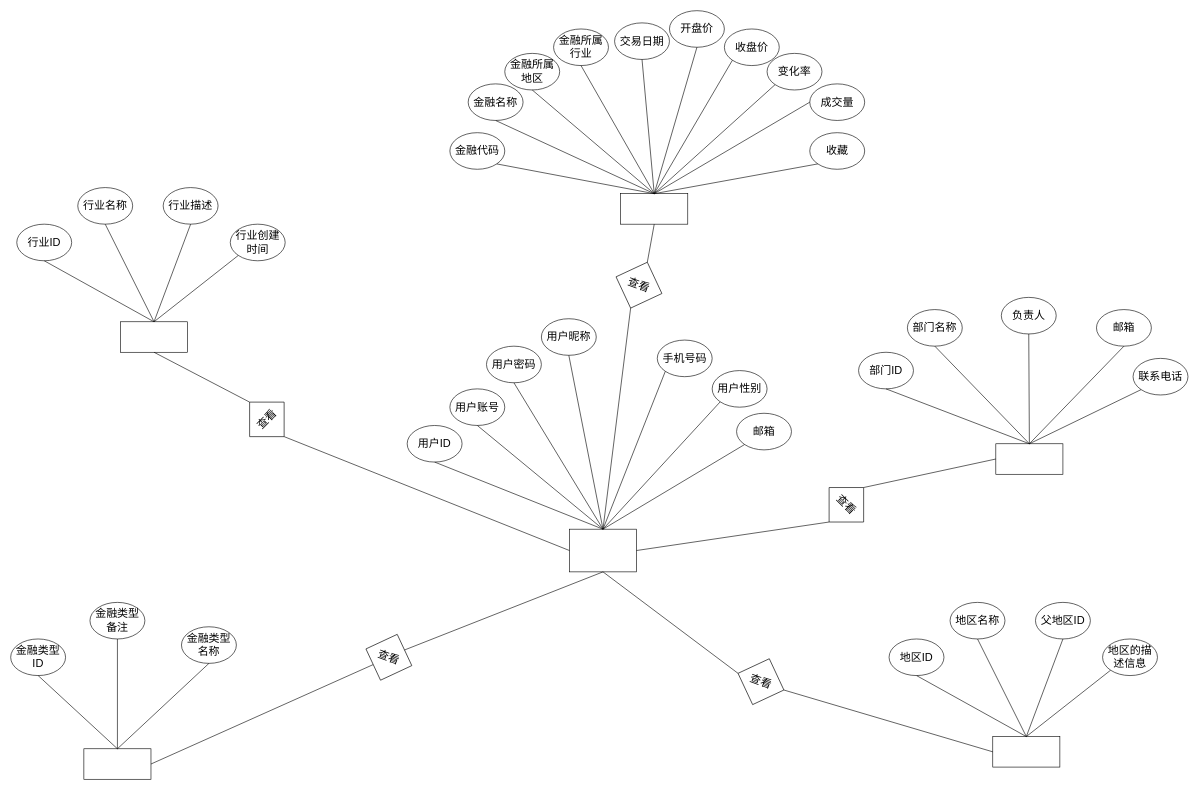
This 1199x790 diagram has some shape labels left out. The shapes that lost their labels are listed below. From the top down, each one's box as (x1, y1, x2, y2) in pixels, then its label:
(620, 193, 688, 224): 股市信息
(120, 321, 188, 352): 行业
(995, 443, 1063, 474): 部门
(569, 529, 637, 572): 用户
(83, 748, 151, 779): 金融类型
(992, 736, 1060, 767): 地区
